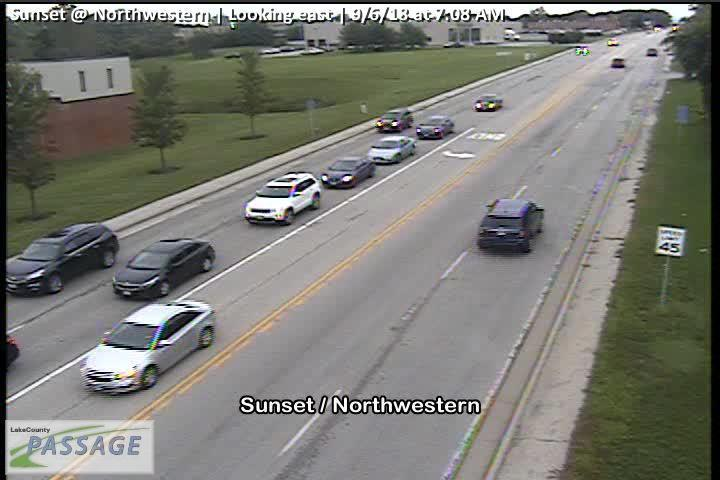SUV: (6, 222, 119, 294), (244, 171, 321, 226), (479, 199, 544, 252), (376, 108, 413, 132), (613, 58, 624, 67), (647, 48, 658, 56), (608, 37, 619, 45)
Sedan: (79, 300, 216, 391), (113, 238, 215, 297), (321, 156, 377, 189), (367, 135, 417, 164), (417, 116, 454, 140), (474, 95, 502, 111), (576, 45, 589, 54)
